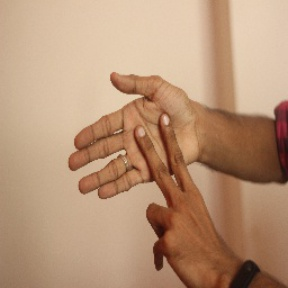N: (62, 66, 220, 258)
